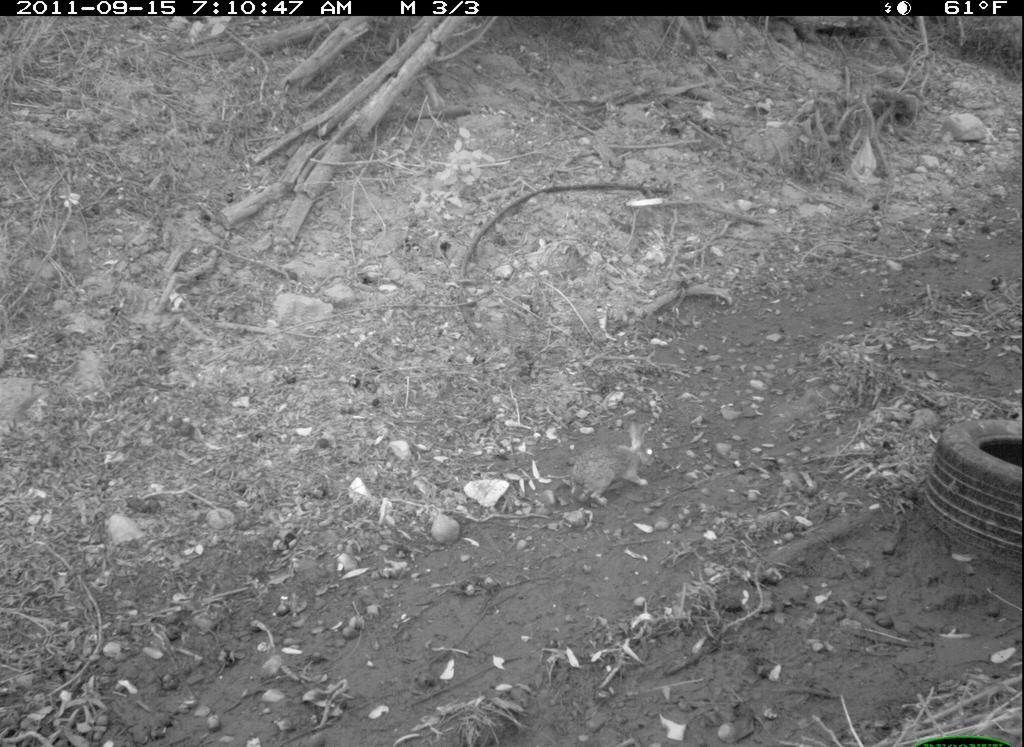rabbit: (556, 419, 667, 514)
